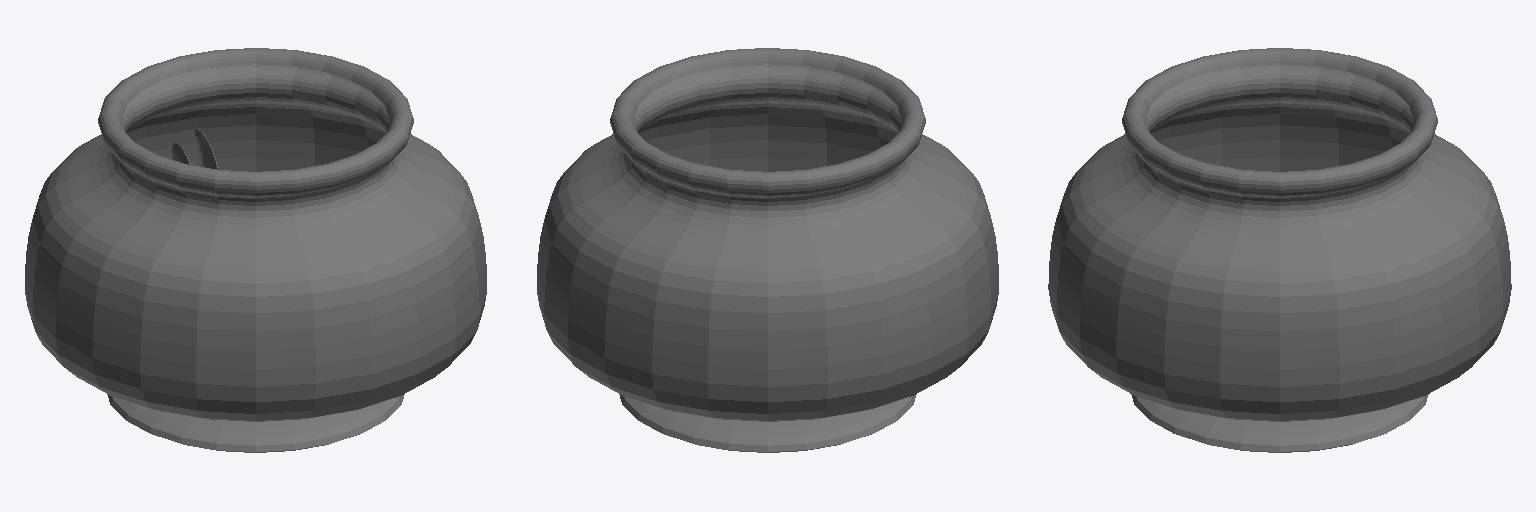
The model's file is FishForSketchfab.obj.
3 views of the same model, side by side, from view 1: azimuth 30°, elevation 25°; view 2: azimuth 150°, elevation 25°; view 3: azimuth 270°, elevation 25° (orthographic).
Parts seen in each view (by area): view 1: Fish_Bowl, FishMesh; view 2: Fish_Bowl; view 3: Fish_Bowl.
Part boxes in pixels (x1,y1,x2,y2): Fish_Bowl: (25,48,486,452); FishMesh: (172,128,218,169); Fish_Bowl: (537,48,998,452); Fish_Bowl: (1048,48,1511,452).
Size of the model in its own units: 18.01 by 12.45 by 18.01.